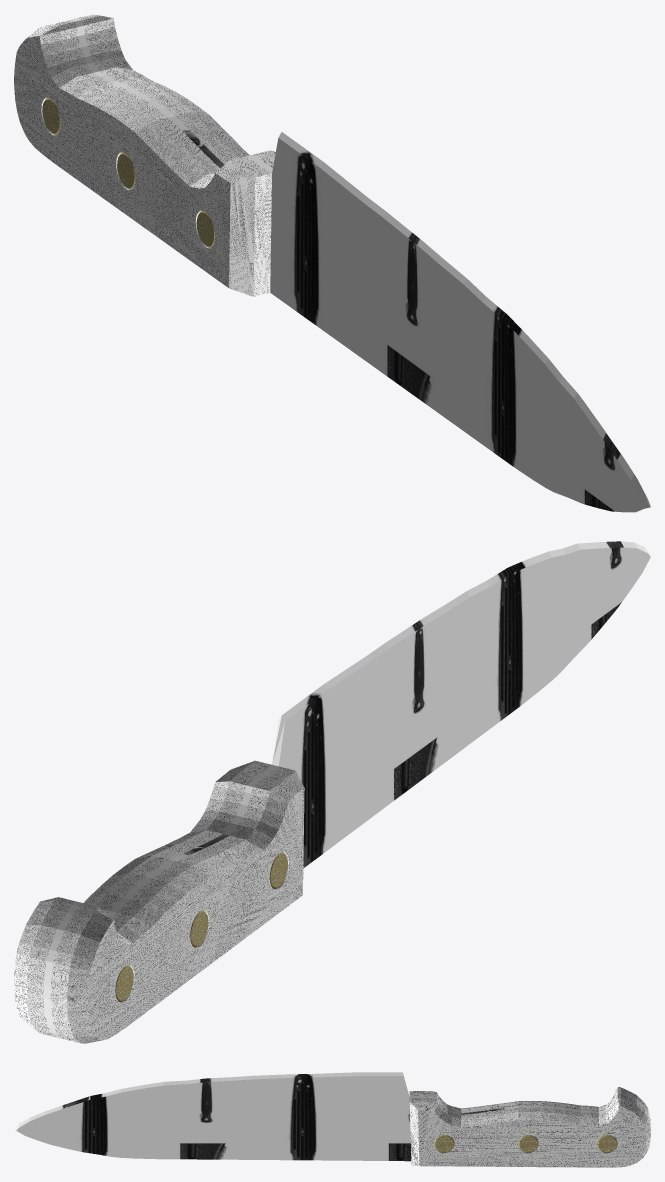
File: model_scale.obj
The picture shows the model from 3 angles, top to bottom: view 1: azimuth 30°, elevation 25°; view 2: azimuth 150°, elevation 25°; view 3: azimuth 270°, elevation 25°; orthographic projection. The views are drawn at different scales.
Parts seen in each view (by area): view 1: mesh4_mesh4-geometry, mesh5_mesh5-geometry, mesh6_mesh6-geometry; view 2: mesh4_mesh4-geometry, mesh5_mesh5-geometry, mesh6_mesh6-geometry; view 3: mesh4_mesh4-geometry, mesh6_mesh6-geometry, mesh5_mesh5-geometry, mesh3_mesh3-geometry, mesh1_mesh1-geometry, mesh2_mesh2-geometry.
Boxes of the visible parts, x1,y1,x2,y2 form: mesh4_mesh4-geometry: (67,18,650,512); mesh5_mesh5-geometry: (14,20,271,296); mesh6_mesh6-geometry: (72,14,275,167); mesh4_mesh4-geometry: (43,541,650,1038); mesh5_mesh5-geometry: (50,766,304,1043); mesh6_mesh6-geometry: (14,760,271,1037); mesh4_mesh4-geometry: (14,1072,650,1161); mesh6_mesh6-geometry: (409,1093,650,1167); mesh5_mesh5-geometry: (409,1087,650,1126); mesh3_mesh3-geometry: (434,1135,454,1152); mesh1_mesh1-geometry: (518,1135,538,1152); mesh2_mesh2-geometry: (597,1135,617,1152).
Bounding box in the file's own units: 0.0165 × 0.0362 × 0.2332.
